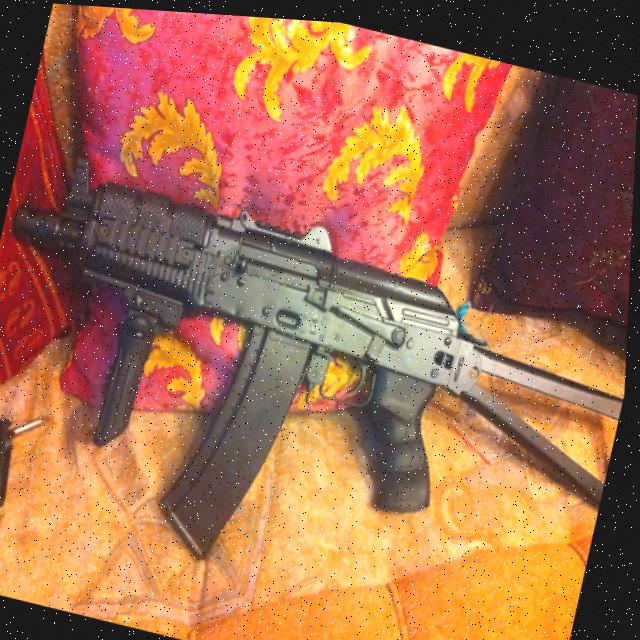firearm: (0, 136, 635, 640)
